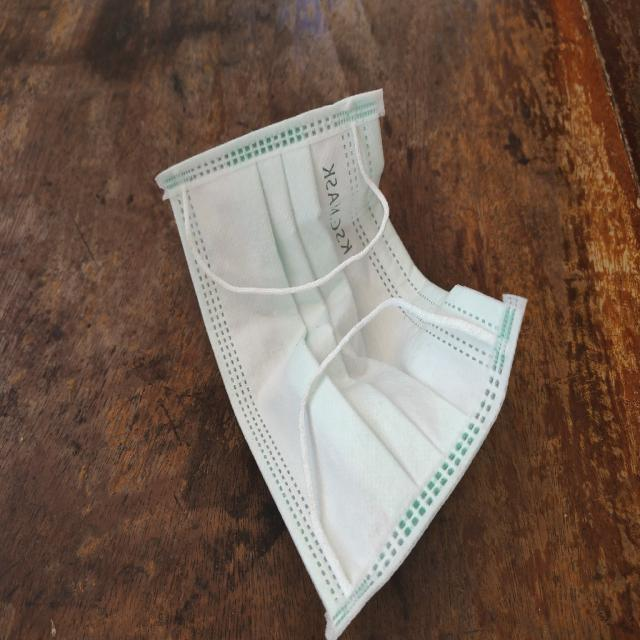face mask: (146, 100, 523, 640)
